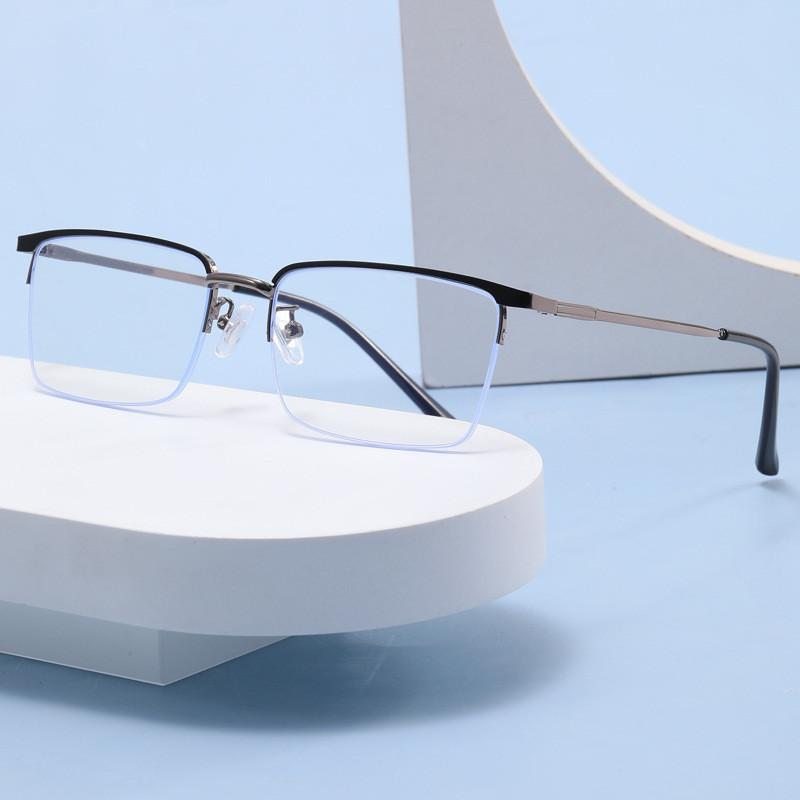spectacles: (20, 219, 789, 559)
